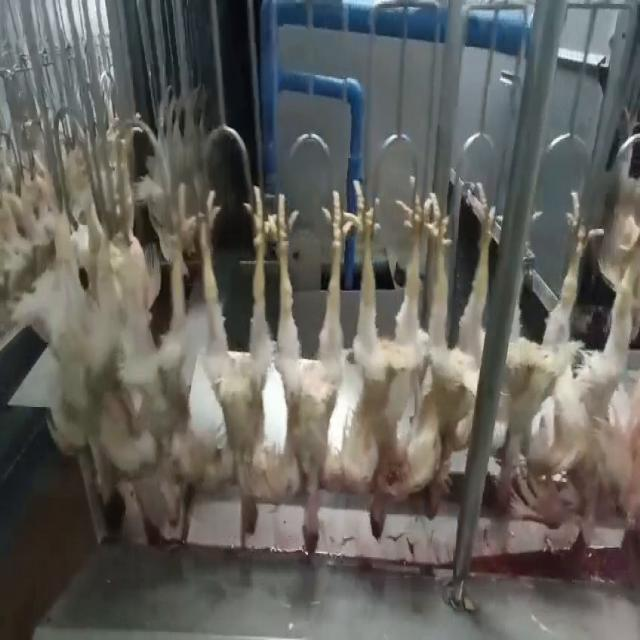chicken: (494, 182, 600, 522), (342, 171, 436, 540), (266, 174, 354, 554), (416, 176, 504, 517), (196, 186, 268, 542), (575, 188, 639, 569), (147, 191, 196, 542)
